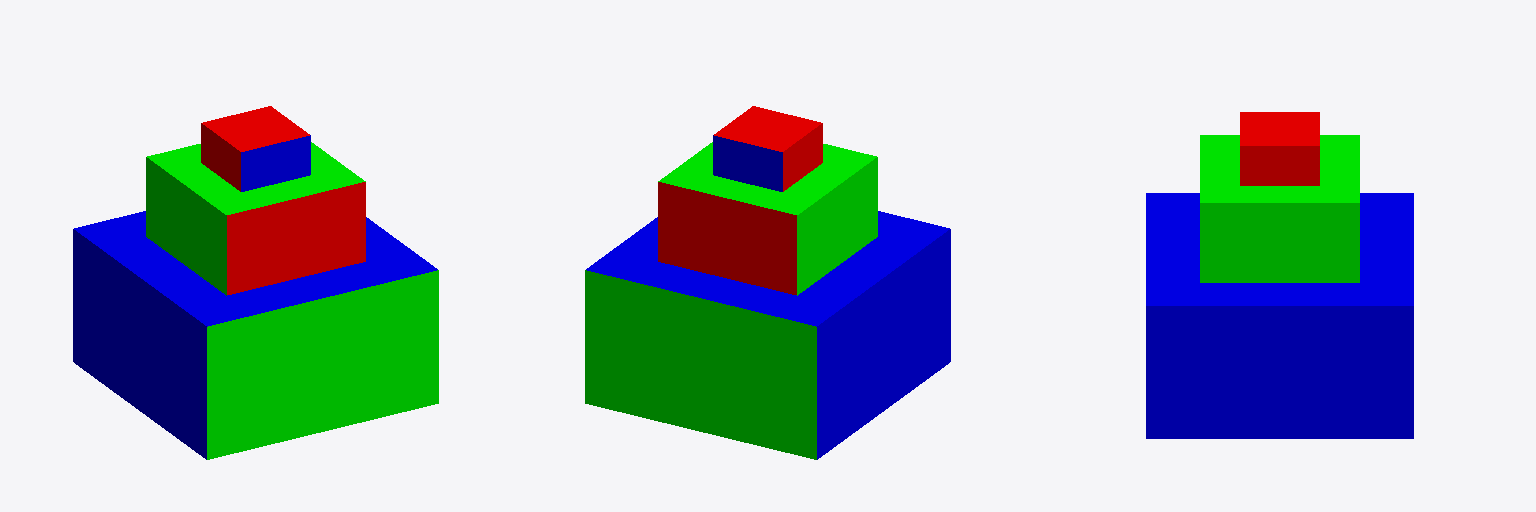
File: multiple-materials.obj
The picture shows the model from 3 angles: view 1: azimuth 30°, elevation 25°; view 2: azimuth 150°, elevation 25°; view 3: azimuth 270°, elevation 25°; orthographic projection.
Visible parts, largest first — view 1: Cube, Cube.001, Cube.002_Cube.003; view 2: Cube, Cube.001, Cube.002_Cube.003; view 3: Cube, Cube.001, Cube.002_Cube.003.
Boxes of the visible parts, x1=… form: Cube: x1=73, y1=211, x2=438, y2=459; Cube.001: x1=146, y1=142, x2=365, y2=295; Cube.002_Cube.003: x1=201, y1=106, x2=310, y2=191; Cube: x1=585, y1=211, x2=950, y2=459; Cube.001: x1=658, y1=142, x2=877, y2=295; Cube.002_Cube.003: x1=713, y1=106, x2=822, y2=191; Cube: x1=1146, y1=193, x2=1413, y2=438; Cube.001: x1=1200, y1=135, x2=1359, y2=282; Cube.002_Cube.003: x1=1240, y1=112, x2=1319, y2=185.
Size of the model in its own units: 2 by 2.09 by 2.